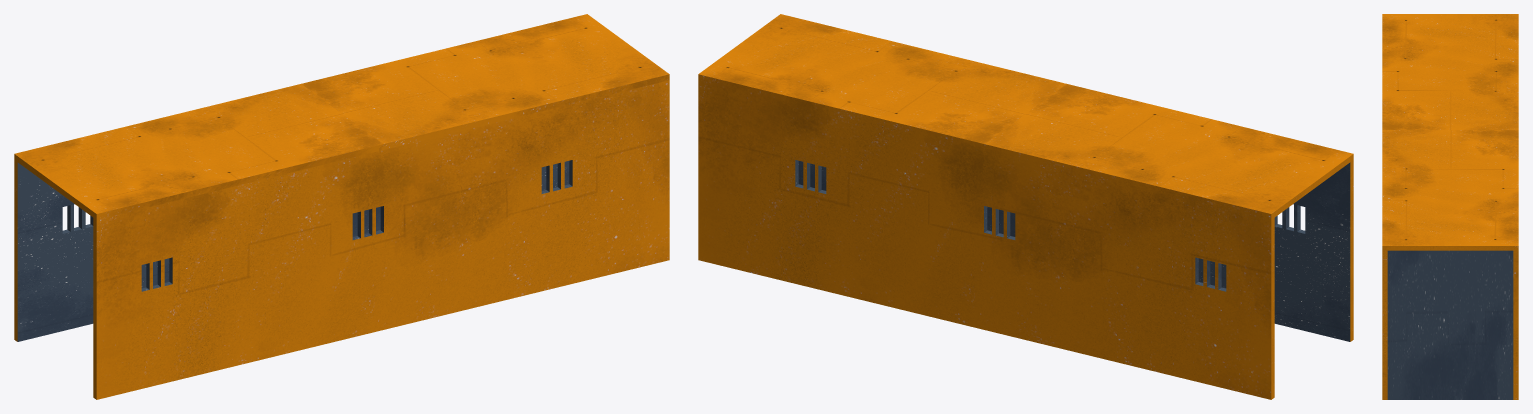
File: PIipe.fbx
The picture shows the model from 3 angles, left to right: view 1: azimuth 30°, elevation 25°; view 2: azimuth 150°, elevation 25°; view 3: azimuth 270°, elevation 25°; orthographic projection. The views are drawn at different scales.
Parts seen in each view (by area): view 1: Cube; view 2: Cube; view 3: Cube.
Part boxes in pixels (box(x1,y1,x2,y2)): Cube: box(14, 14, 669, 399); Cube: box(698, 14, 1353, 399); Cube: box(1382, 14, 1518, 399).
Size of the model in its own units: 600 by 186 by 149.
